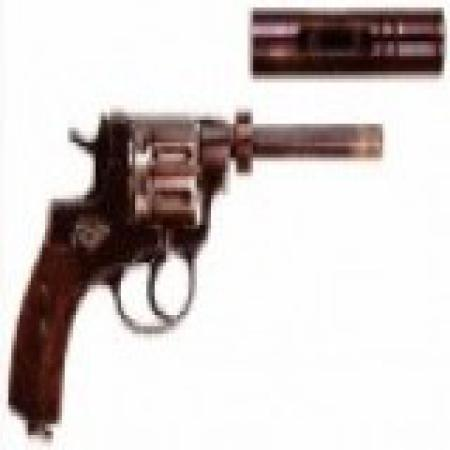Pistol: (17, 98, 385, 420)
